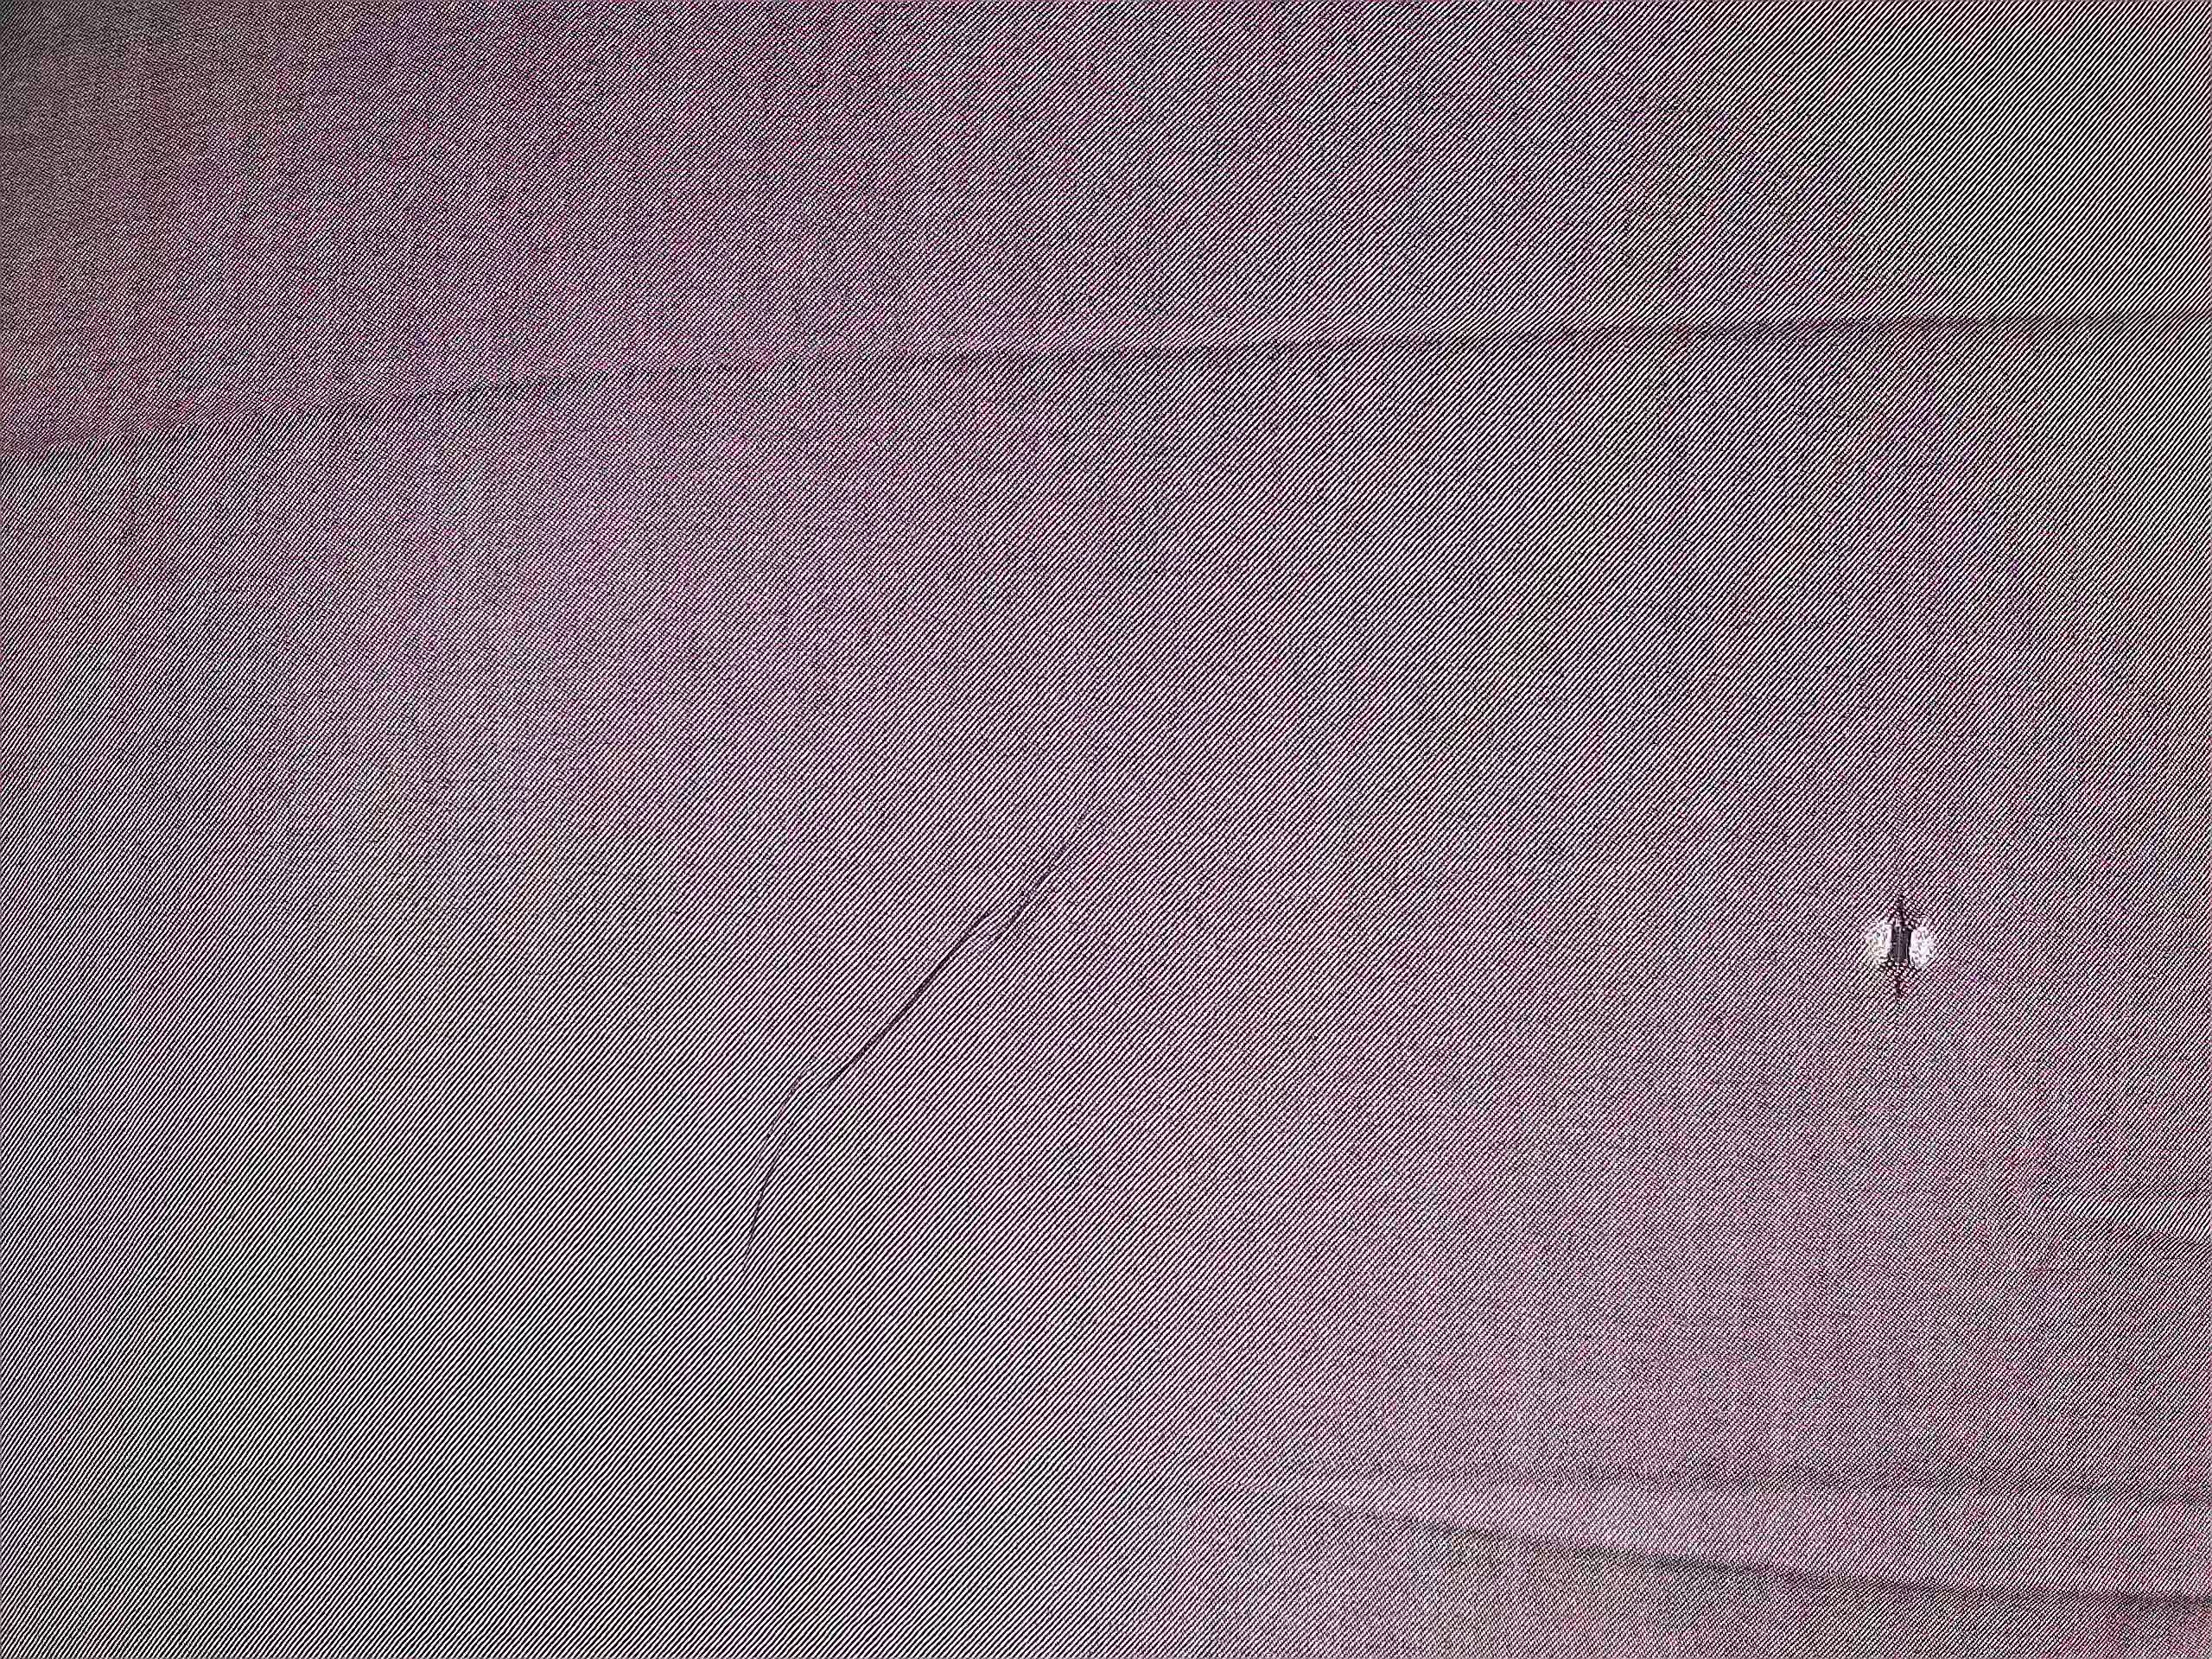rubbing-hole: (1858, 880, 1951, 1014)
